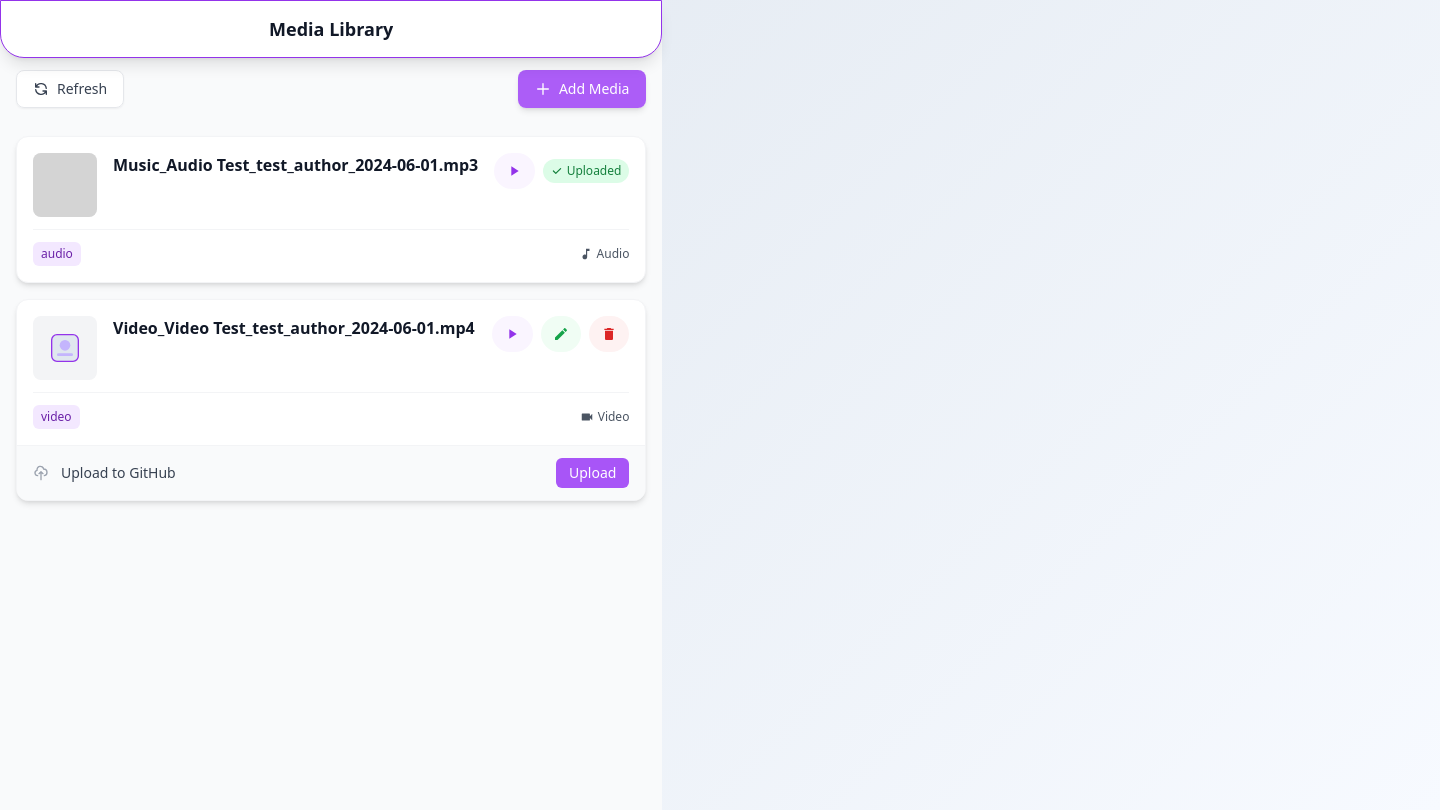
it: FileList › handles preview modal for file without parsed metadata
The width and height of the screenshot is (1440, 810).
Click the button titled "Preview" next to "Uploaded". click: click(514, 171)
box: x1=494 y1=153 x2=535 y2=189
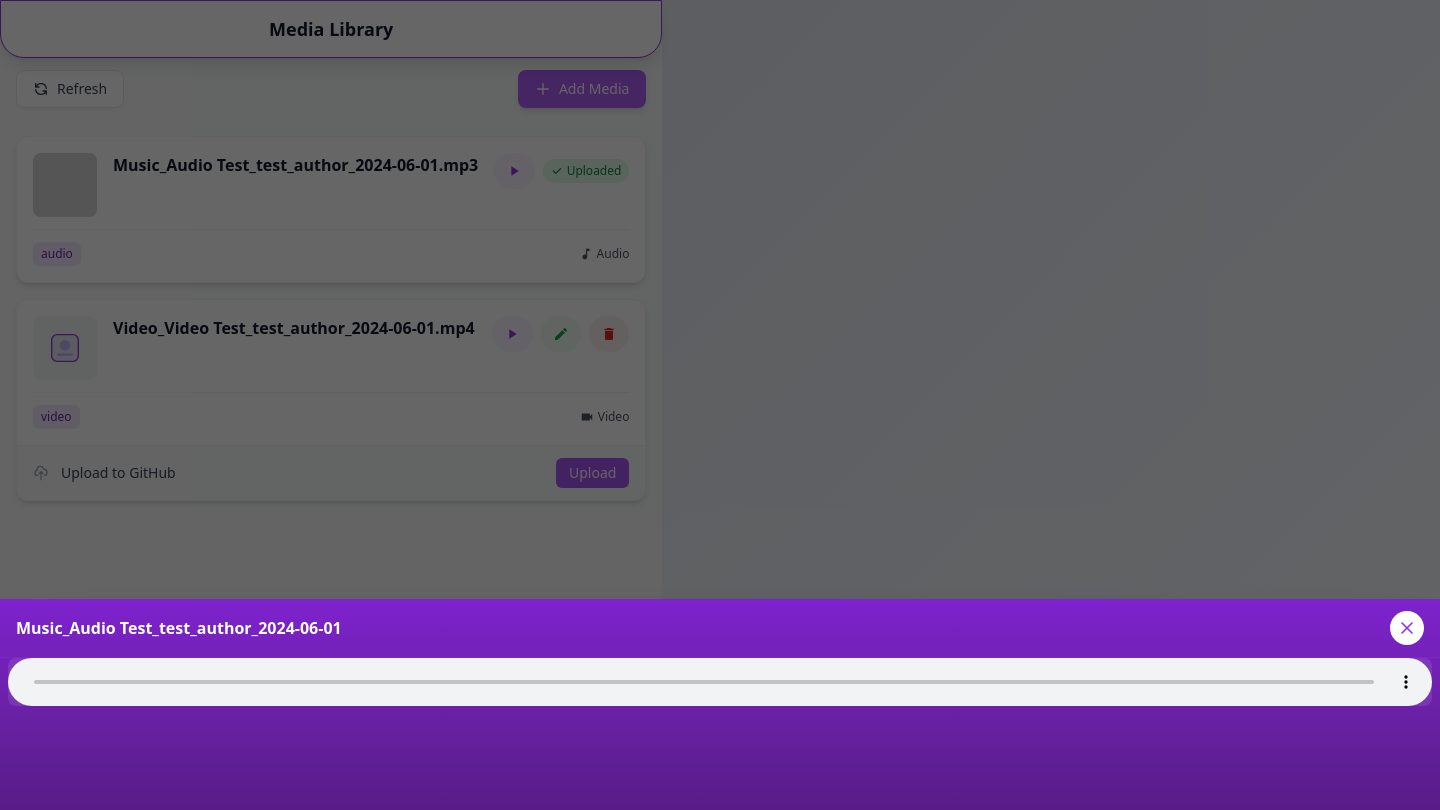
Check: the heading "Music_Audio Test_test_author_2024-06-01" is shown, box x1=16 y1=617 x2=342 y2=639
